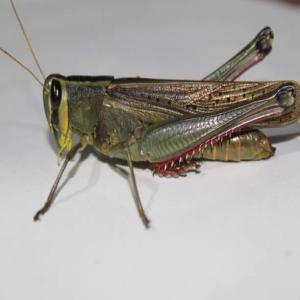locust: (26, 46, 300, 200)
